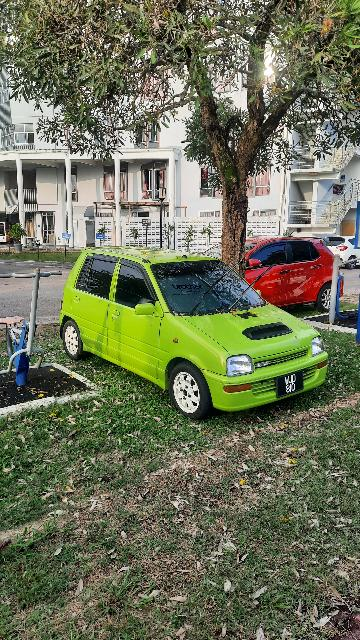License_Plate: (272, 369, 312, 399)
car: (58, 241, 333, 419), (193, 231, 349, 316)
